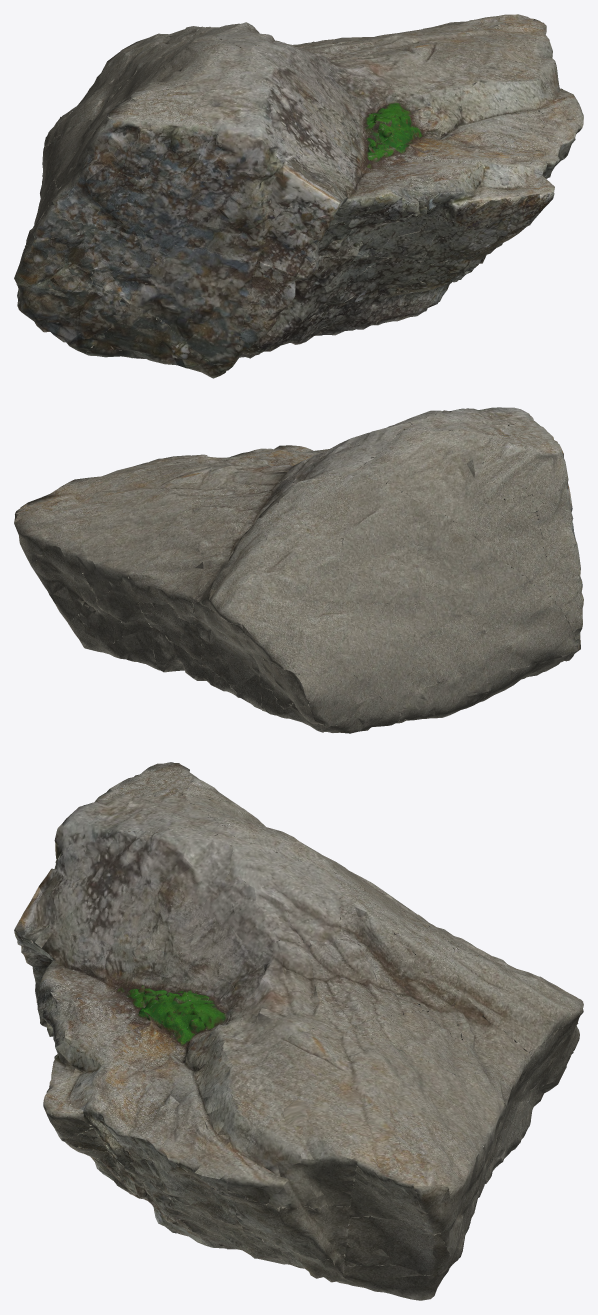
File: rock_b_optimized.glb
3 renders of one model, top to bottom at view 1: azimuth 30°, elevation 25°; view 2: azimuth 150°, elevation 25°; view 3: azimuth 270°, elevation 25°, orthographic. The views are drawn at different scales.
Parts seen in each view (by area): view 1: Mesh_0; view 2: Mesh_0; view 3: Mesh_0.
Part boxes in pixels (<box>): Mesh_0: <box>14,14,583,378</box>; Mesh_0: <box>14,407,583,733</box>; Mesh_0: <box>14,762,583,1300</box>.
Bounding box in the file's own units: 1.9 × 0.869 × 1.4.
Materials: 1 (1 with a texture image).
